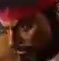ryu: (0, 0, 52, 60)
